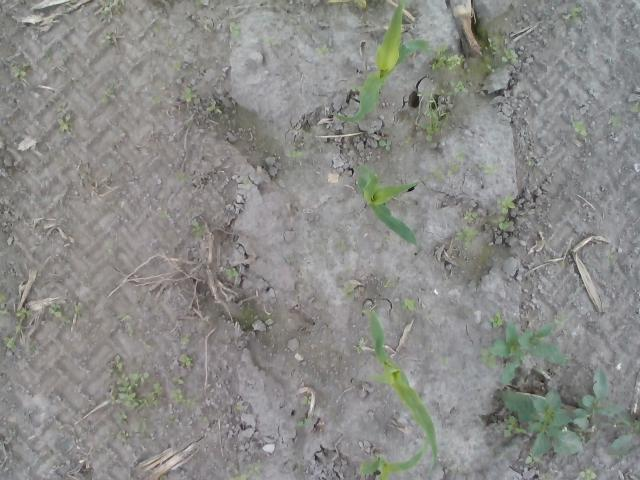Maize: (336, 2, 434, 123), (369, 308, 439, 471), (357, 163, 420, 246), (360, 434, 432, 480)
Weeds: (496, 366, 640, 464), (482, 310, 570, 388), (110, 367, 162, 409), (414, 88, 452, 144), (431, 42, 472, 75), (431, 150, 465, 180), (486, 196, 514, 232), (454, 226, 481, 250), (226, 463, 262, 480), (102, 0, 126, 19), (56, 103, 71, 132), (100, 79, 116, 106), (170, 387, 193, 405), (500, 47, 521, 65), (0, 307, 32, 318), (110, 352, 124, 376), (191, 218, 207, 238), (570, 120, 588, 136), (483, 36, 497, 56), (478, 162, 498, 176), (206, 99, 223, 115), (177, 353, 194, 369), (10, 64, 27, 79), (2, 335, 17, 351), (578, 467, 596, 480), (229, 19, 240, 40), (452, 80, 466, 96), (462, 210, 478, 224), (222, 268, 238, 282), (112, 410, 128, 424), (286, 148, 304, 160), (135, 415, 147, 433), (401, 298, 416, 312), (48, 303, 62, 317), (179, 88, 192, 103), (378, 139, 393, 152), (110, 430, 128, 440), (100, 30, 112, 44), (175, 172, 188, 184), (316, 46, 330, 57), (440, 353, 450, 368), (570, 7, 582, 19), (344, 288, 356, 300), (111, 312, 128, 320), (74, 304, 82, 320), (608, 117, 620, 127), (539, 472, 554, 480), (0, 291, 9, 304), (486, 62, 496, 73), (179, 335, 190, 345), (160, 210, 172, 219), (410, 3, 418, 16), (336, 239, 346, 249), (352, 344, 364, 352), (630, 103, 640, 112), (303, 395, 312, 405), (174, 376, 184, 385), (150, 96, 161, 104), (383, 280, 393, 288), (296, 420, 306, 428), (195, 0, 208, 6), (264, 35, 272, 44), (176, 59, 182, 71), (606, 252, 614, 260), (64, 320, 72, 328), (128, 326, 134, 336), (250, 313, 258, 320), (362, 308, 369, 316), (14, 320, 20, 329), (399, 446, 406, 453), (384, 236, 392, 241), (366, 220, 374, 224), (528, 160, 532, 165)
